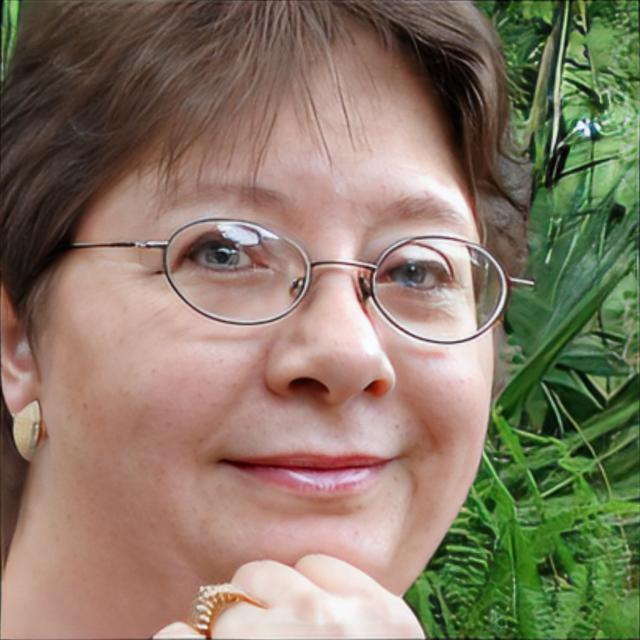happy: (70, 46, 497, 568)
